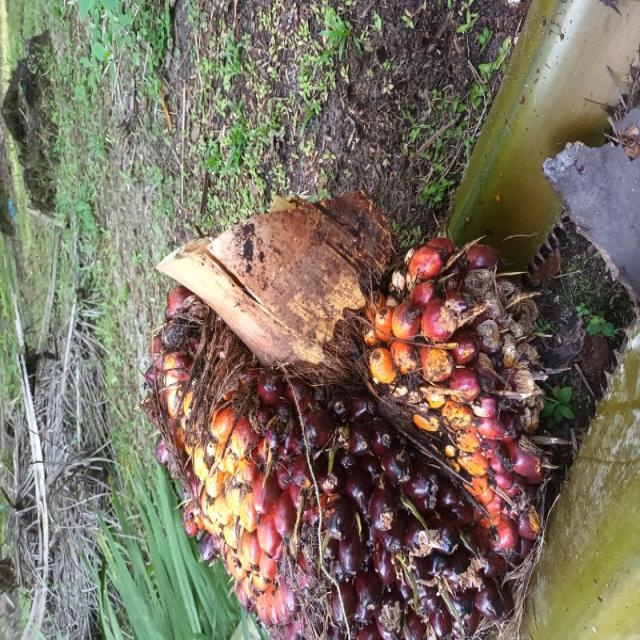fraksi 1: (0, 136, 321, 640)
